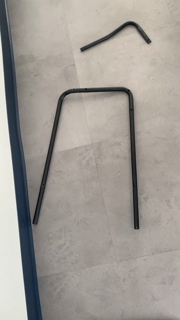L pipe: (79, 21, 152, 56)
U pipe: (32, 86, 143, 236)
